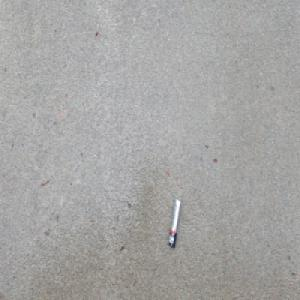Battery: (166, 196, 180, 250)
